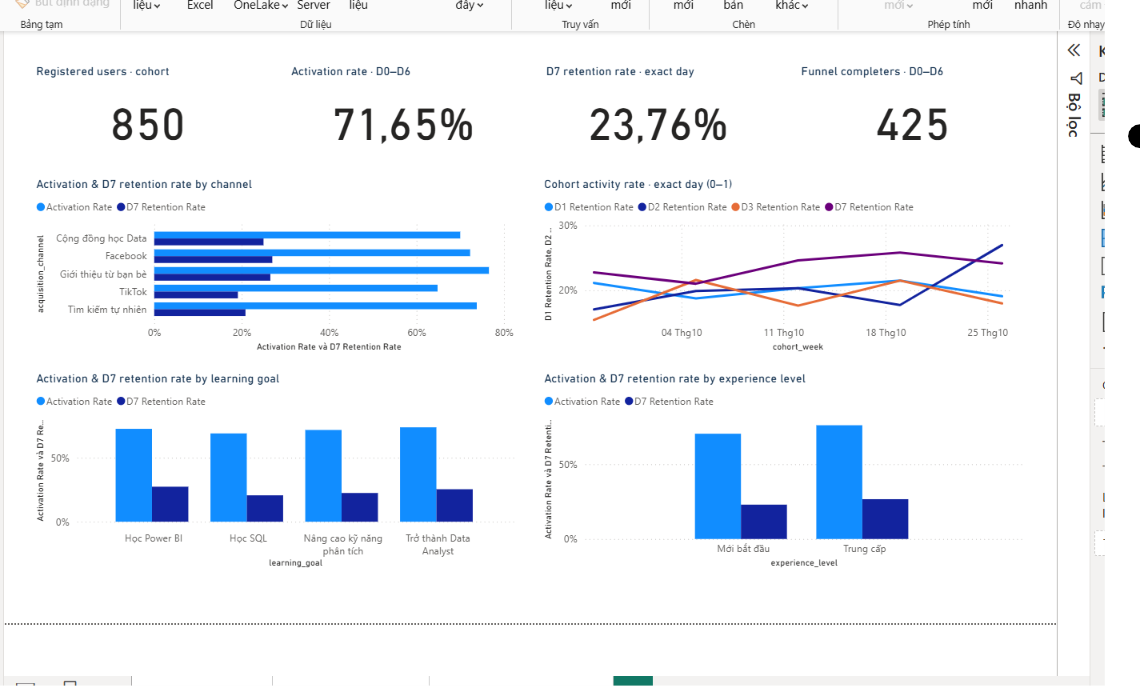

The page's visual inventory and layout, read from the dashboard file:
{"tool":"powerbi","page":{"name":"01 | User Overview","canvas":[1280,720],"ordinal":0},"visuals":[{"type":"card","title":"Registered users · cohort","fields":{"Values":["vw_user_metrics.Total Users"]},"box":[34,40,282,115],"z":0},{"type":"card","title":"Activation rate · D0–D6","fields":{"Values":["vw_user_metrics.Activation Rate"]},"box":[344,40,282,115],"z":1000},{"type":"card","title":"D7 retention rate · exact day","fields":{"Values":["vw_user_metrics.D7 Retention Rate"]},"box":[654,40,282,115],"z":2000},{"type":"card","title":"Funnel completers · D0–D6","fields":{"Values":["Sum(vw_user_metrics.reached_complete)"]},"box":[964,40,282,115],"z":3000},{"type":"clusteredBarChart","title":"Activation & D7 retention rate by channel","fields":{"Category":["vw_user_metrics.acquisition_channel"],"Y":["vw_user_metrics.Activation Rate","vw_user_metrics.D7 Retention Rate"]},"box":[34,177,591,217],"z":4000},{"type":"lineChart","title":"Cohort activity rate · exact day (0–1)","fields":{"Category":["vw_user_metrics.cohort_week"],"Y":["vw_user_metrics.D1 Retention Rate","vw_user_metrics.D2 Retention Rate","vw_user_metrics.D3 Retention Rate","vw_user_metrics.D7 Retention Rate"]},"box":[652,177,592,217],"z":5000},{"type":"clusteredColumnChart","title":"Activation & D7 retention rate by learning goal","fields":{"Category":["vw_user_metrics.learning_goal"],"Y":["vw_user_metrics.Activation Rate","vw_user_metrics.D7 Retention Rate"]},"box":[34,413,591,244],"z":6000},{"type":"clusteredColumnChart","title":"Activation & D7 retention rate by experience level","fields":{"Category":["vw_user_metrics.experience_level"],"Y":["vw_user_metrics.Activation Rate","vw_user_metrics.D7 Retention Rate"]},"box":[652,413,592,244],"z":7000}]}

Visuals, with their boxes on the page's 1280x720 design canvas (x1, y1, x2, y2). These are canvas units, not pixel positions in the 1140x686 screenshot, which may show the page scaled, cropped or inside an application window:
"Registered users · cohort" card: bbox=[34, 40, 316, 155]
"Activation rate · D0–D6" card: bbox=[344, 40, 626, 155]
"D7 retention rate · exact day" card: bbox=[654, 40, 936, 155]
"Funnel completers · D0–D6" card: bbox=[964, 40, 1246, 155]
"Activation & D7 retention rate by channel" clusteredBarChart: bbox=[34, 177, 625, 394]
"Cohort activity rate · exact day (0–1)" lineChart: bbox=[652, 177, 1244, 394]
"Activation & D7 retention rate by learning goal" clusteredColumnChart: bbox=[34, 413, 625, 657]
"Activation & D7 retention rate by experience level" clusteredColumnChart: bbox=[652, 413, 1244, 657]
